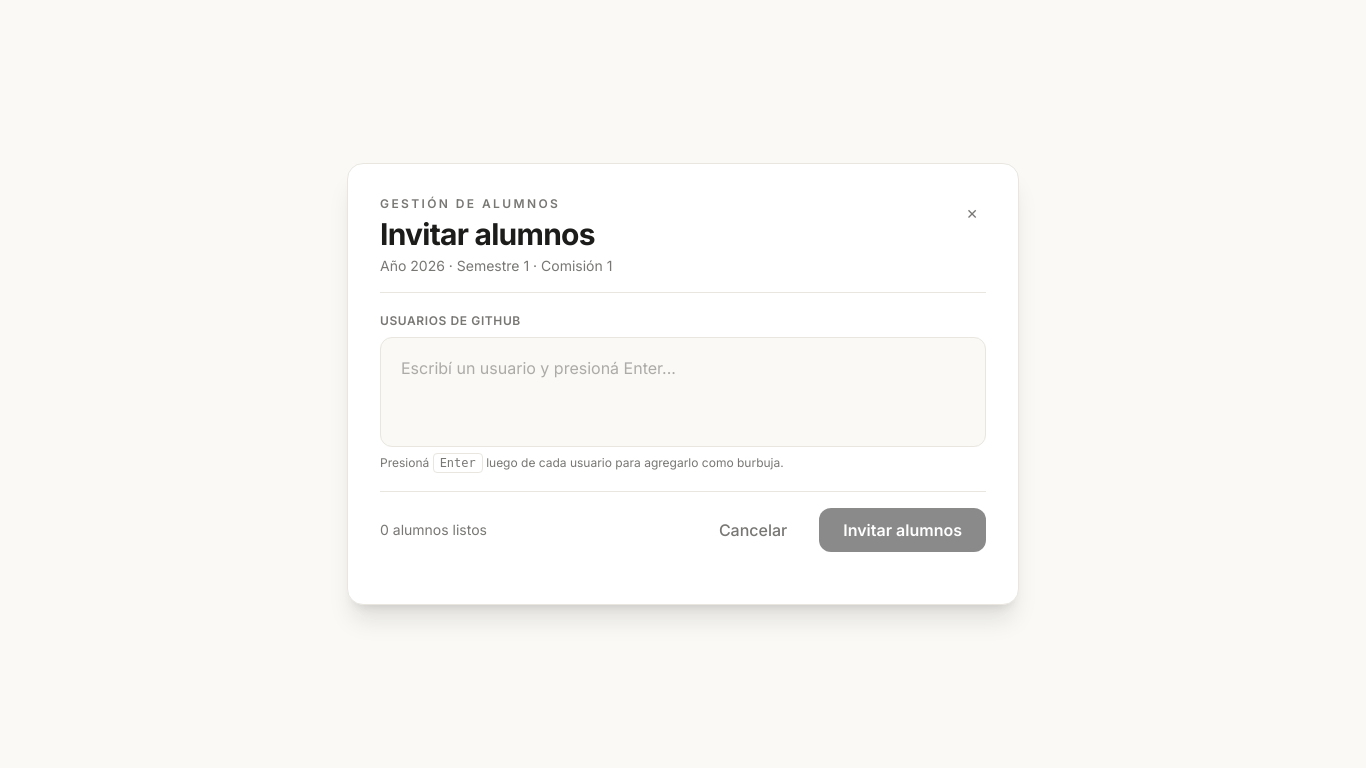
it: InvitarAlumnosModal › Caso válido: envío exitoso -> feedback visual -> actualización de lista
The width and height of the screenshot is (1366, 768).
Type "octocat" into the field with test id "username-input". click: point(683, 368)
box: [393, 350, 973, 386]
Then press Enter
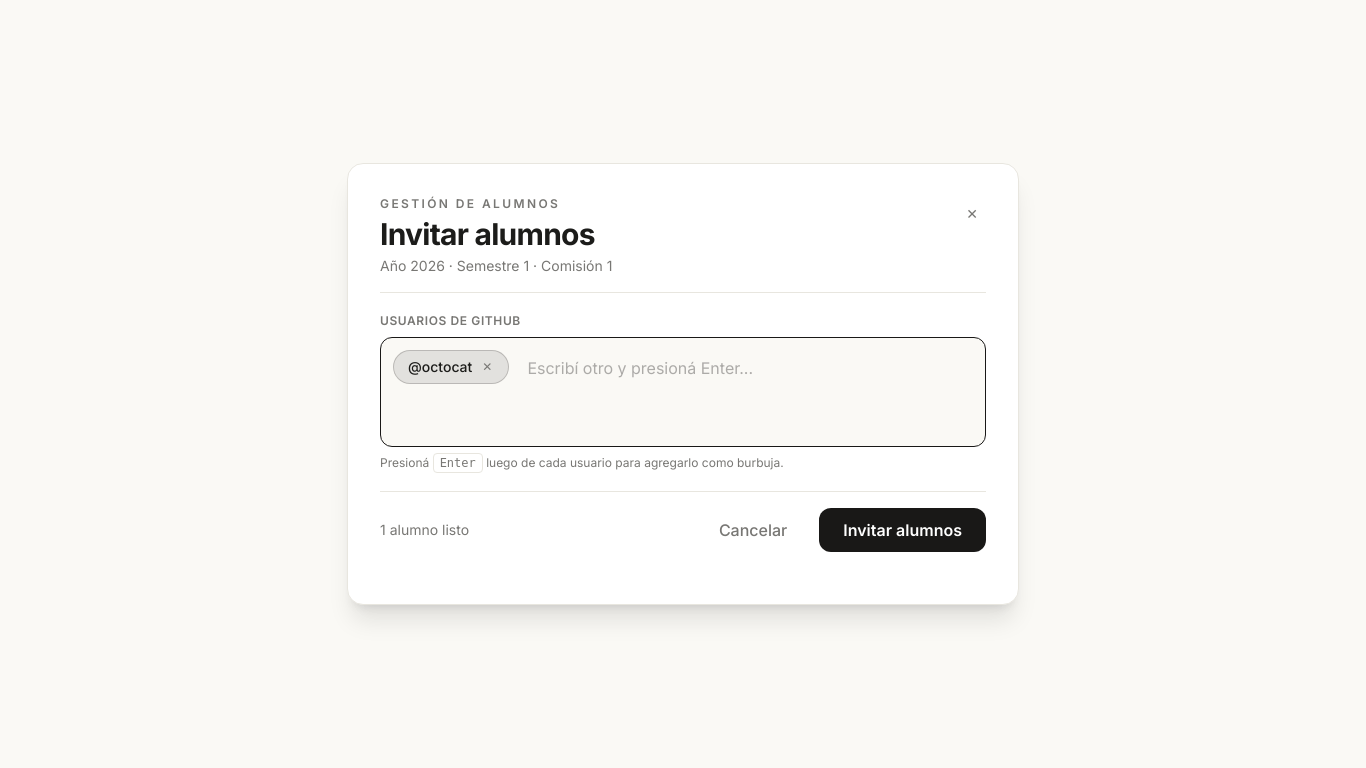
Click the button with test id "submit-button". click: point(903, 530)
box: [819, 508, 986, 552]
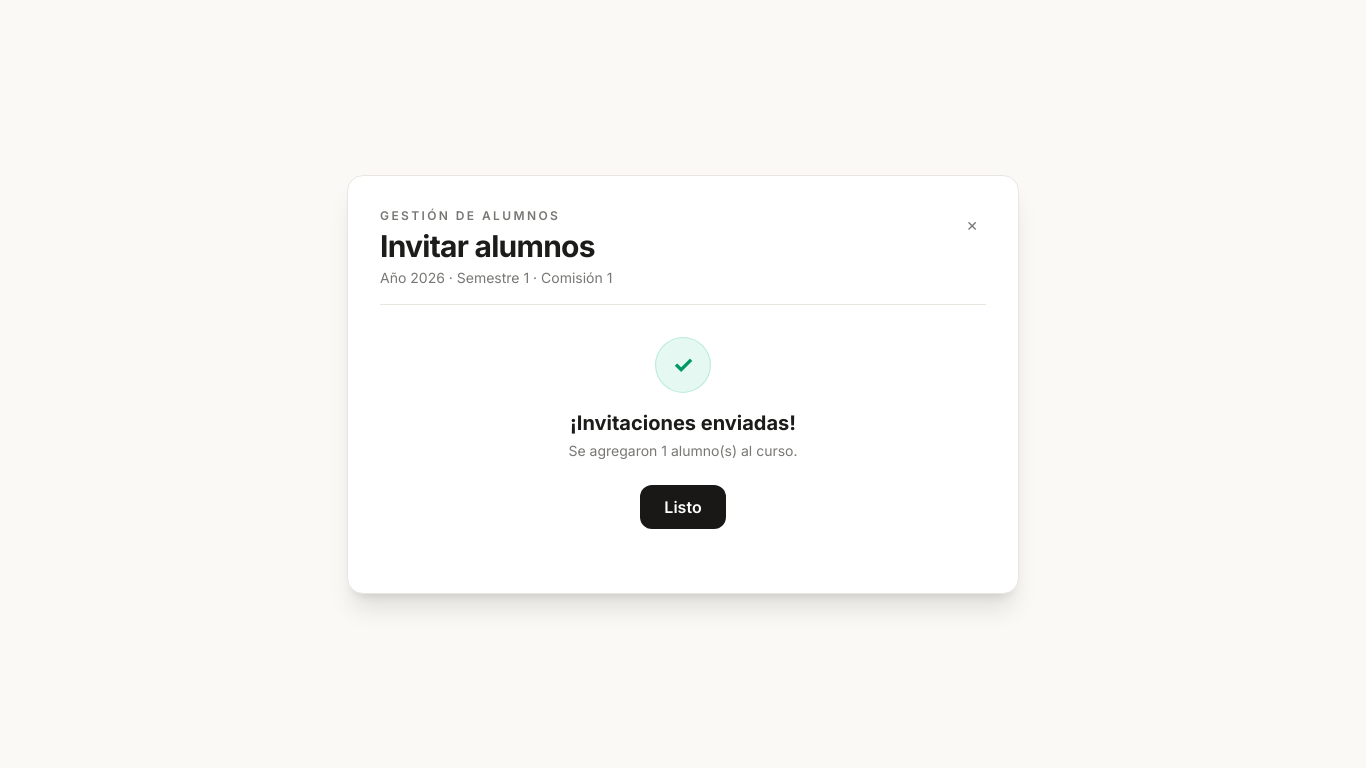
Now the element with test id "success-feedback" shows "¡Invitaciones enviadas!", box [570, 410, 796, 434]
Now the element with test id "success-feedback" shows "Se agregaron 1 alumno(s) al curso.", box [568, 336, 798, 528]
